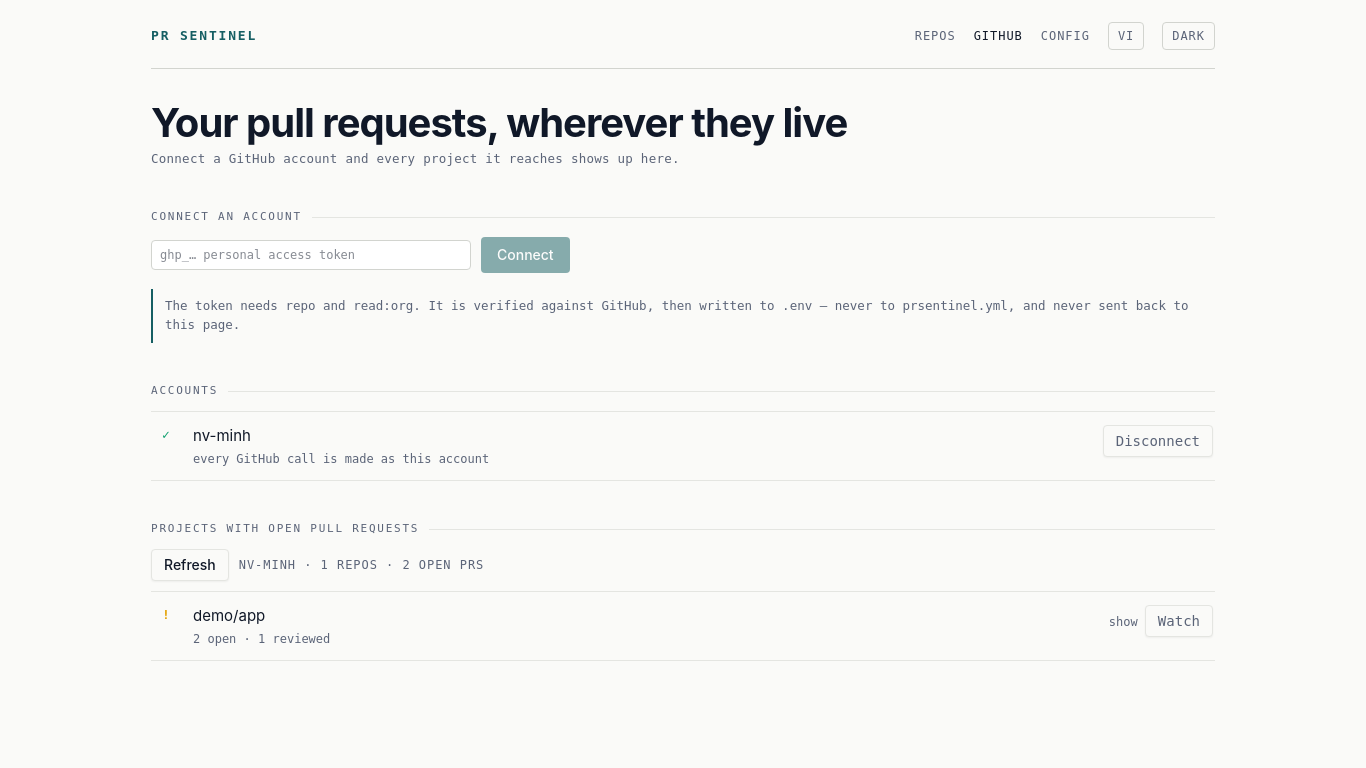
App › renders the account page in Vietnamese
What coordinates should you click on to do the following:
click the button "VI"
I would click on:
 (1126, 36)
Its box is [1108,22,1144,50].
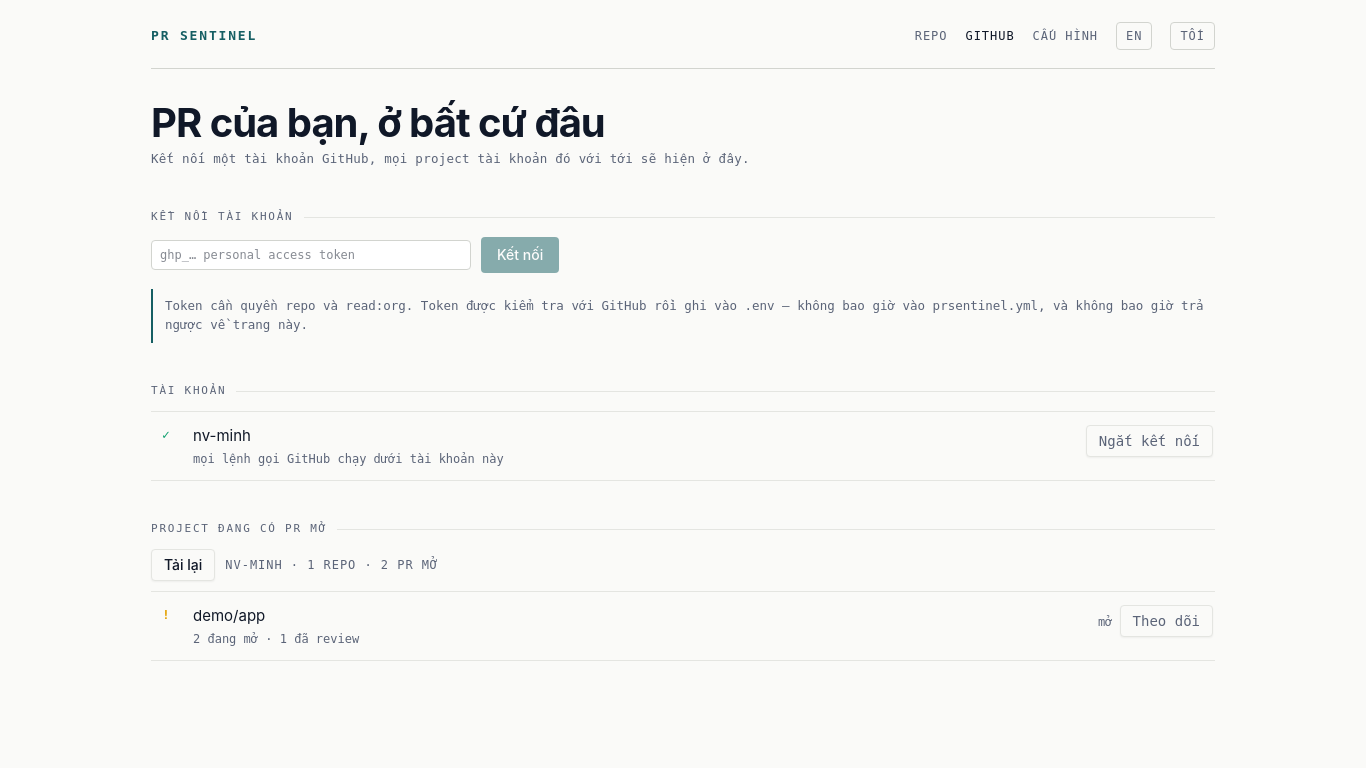
Expected: the text "Kết nối tài khoản" is shown, [151,210,294,223]
Expected: the text "2 đang mở" is shown, [193,632,258,646]
Expected: the text "Connect an account" is gone
What coordinates should you click on to do the following:
click the button "EN"
I would click on:
 (1134, 36)
Its box is [1116,22,1152,50].
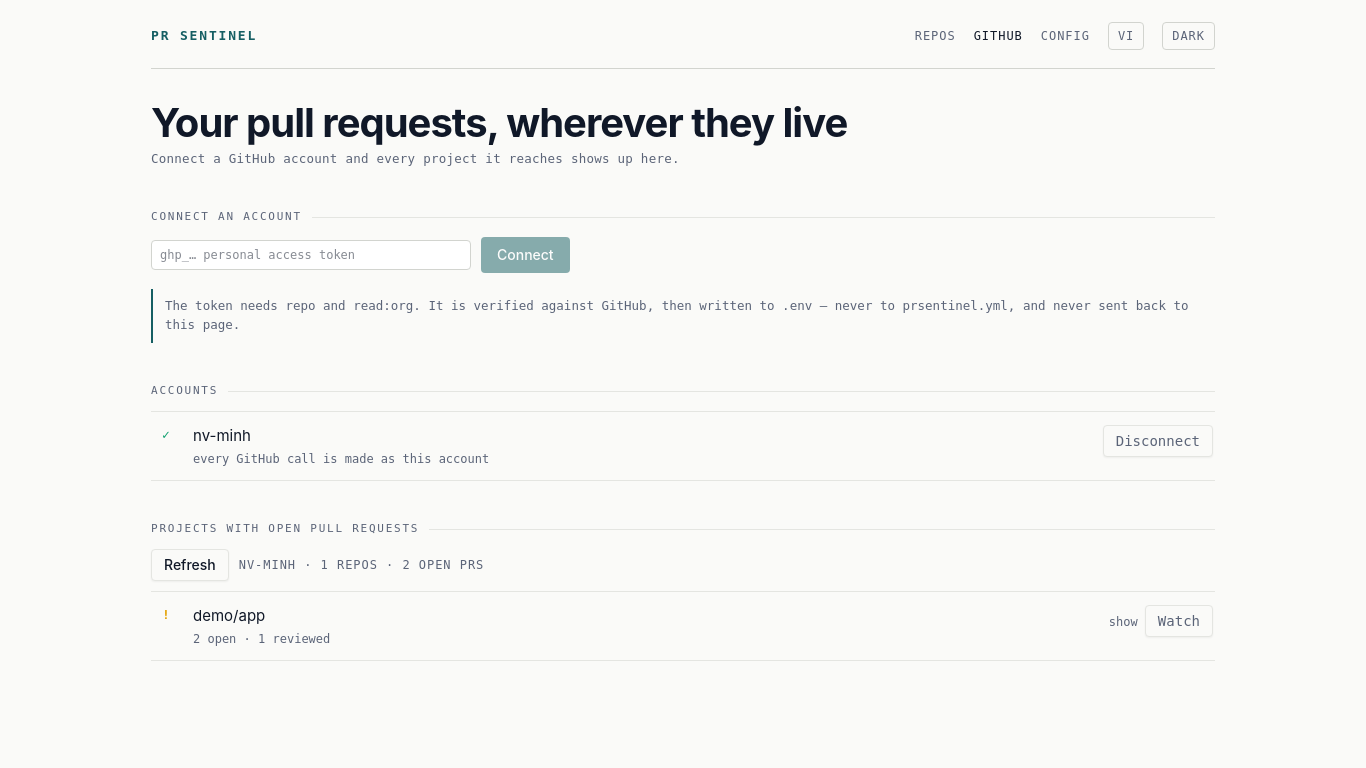
Expected: the text "Connect an account" is shown, [151,210,302,223]
